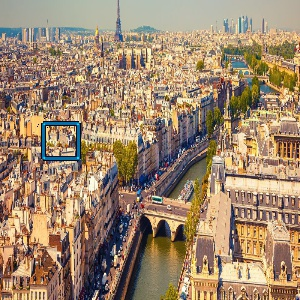square: (40, 120, 82, 161)
